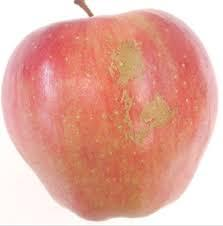Apple: (2, 0, 223, 225)
